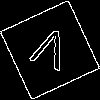V: (25, 25, 72, 80)
